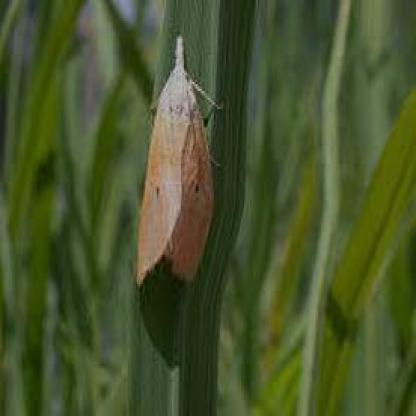stem-borer: (135, 32, 227, 289)
